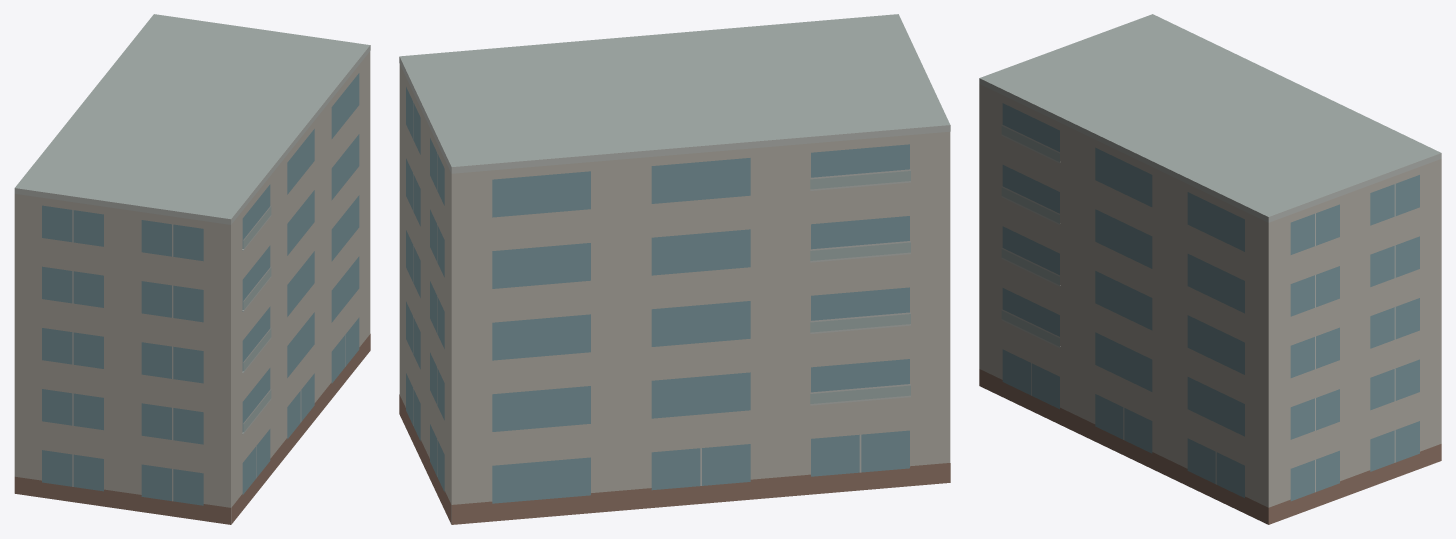
File: survey-upis-33007130.glb
3 views of the same model, side by side, from view 1: azimuth 30°, elevation 25°; view 2: azimuth 150°, elevation 25°; view 3: azimuth 270°, elevation 25° (orthographic). The views are drawn at different scales.
Parts seen in each view (by area): view 1: survey-upis-33007130.tmp; view 2: survey-upis-33007130.tmp; view 3: survey-upis-33007130.tmp.
Part boxes in pixels (left/top/right/bottom): survey-upis-33007130.tmp: left=14, top=14, right=370, bottom=524; survey-upis-33007130.tmp: left=399, top=14, right=950, bottom=524; survey-upis-33007130.tmp: left=979, top=14, right=1441, bottom=524.
Size of the model in its own units: 18.55 by 13.1 by 17.84.
